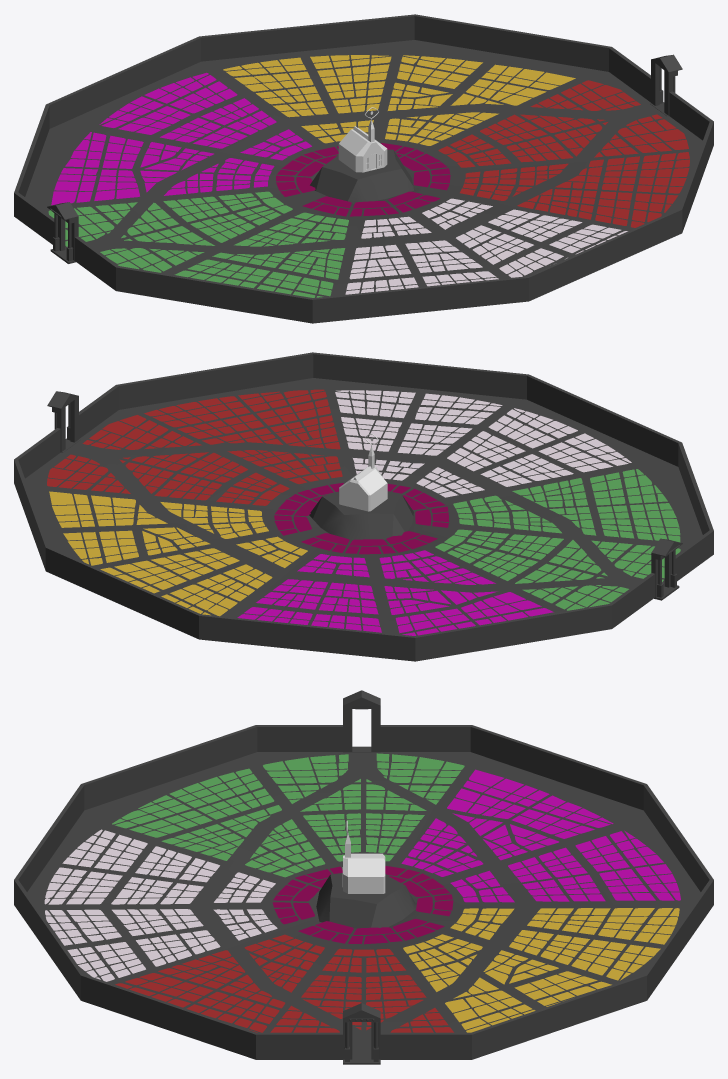
Rendered from mapa ordenado .fbx.
3 views of the same model, one above another, from view 1: azimuth 30°, elevation 25°; view 2: azimuth 150°, elevation 25°; view 3: azimuth 270°, elevation 25° (orthographic). The views are drawn at different scales.
Parts seen in each view (by area): view 1: MUROS Y SUELO, ZONE_RED_7, ZONE_PINK_1, ZONE_PINK_4, ZONE_RED_2, ZONE_YELLOW_1, ZONE_YELLOW_2, ZONE_YELLOW_5, ZONE_PINK_5, ZONE_RED_4, ZONE_RED_6, ZONE_RED_5 (+32 smaller); view 2: MUROS Y SUELO, ZONE_RED_7, ZONE_RED_2, ZONE_PINK_1, ZONE_YELLOW_2, ZONE_YELLOW_5, ZONE_PINK_5, ZONE_YELLOW_1, ZONE_RED_4, ZONE_RED_6, ZONE_GREEN_8, ZONE_PINK_3 (+33 smaller); view 3: MUROS Y SUELO, ZONE_PINK_1, ZONE_PINK_4, ZONE_YELLOW_1, ZONE_YELLOW_2, ZONE_RED_2, ZONE_RED_7, ZONE_PINK_5, ZONE_GREEN_1, ZONE_RED_6, ZONE_GREEN_5, ZONE_YELLOW_5 (+33 smaller).
Boxes of the visible parts, x1,y1,x2,y2 form: MUROS Y SUELO: (14,14,713,323); ZONE_RED_7: (595,152,689,227); ZONE_PINK_1: (51,132,143,205); ZONE_PINK_4: (99,72,237,134); ZONE_RED_2: (480,114,607,162); ZONE_YELLOW_1: (223,57,328,117); ZONE_YELLOW_2: (310,55,391,113); ZONE_YELLOW_5: (450,64,575,105); ZONE_PINK_5: (160,98,276,148); ZONE_RED_4: (594,114,688,157); ZONE_RED_6: (517,159,603,219); ZONE_RED_5: (460,163,568,200); MUROS Y SUELO: (14,352,713,661); ZONE_RED_7: (144,389,330,438); ZONE_RED_2: (120,452,247,500); ZONE_PINK_1: (395,592,553,635); ZONE_YELLOW_2: (100,548,239,593); ZONE_YELLOW_5: (49,491,167,527); ZONE_PINK_5: (256,579,378,614); ZONE_YELLOW_1: (161,564,272,616); ZONE_RED_4: (82,415,201,449); ZONE_RED_6: (202,415,340,449); ZONE_GREEN_8: (453,495,561,533); ZONE_PINK_3: (379,550,495,584); MUROS Y SUELO: (14,690,713,1064); ZONE_PINK_1: (447,769,613,838); ZONE_PINK_4: (575,830,680,900); ZONE_YELLOW_1: (527,908,679,944); ZONE_YELLOW_2: (509,930,660,980); ZONE_RED_2: (301,975,426,1030); ZONE_RED_7: (115,973,279,1032); ZONE_PINK_5: (508,847,605,901); ZONE_GREEN_1: (376,753,464,804); ZONE_RED_6: (158,950,285,1008); ZONE_GREEN_5: (263,754,348,803); ZONE_YELLOW_5: (445,977,535,1032).
Bounding box in the file's own units: 533 × 66.54 × 493.
